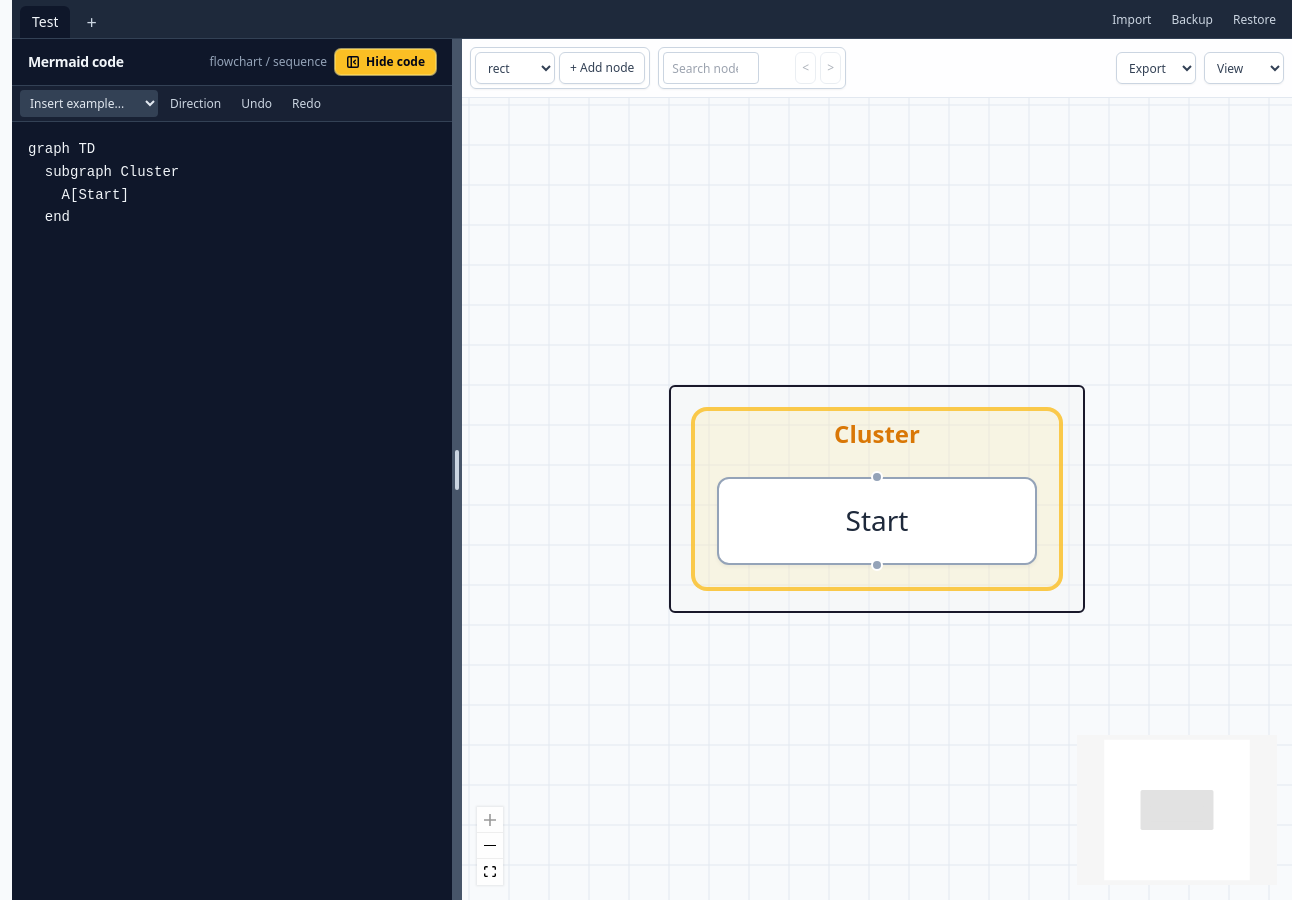
MermaidVisualEditor: node label editing › selects and highlights the subgraph declaration when a subgraph is clicked
Click the text "Cluster" at {"x": 877, "y": 434}, box left=834, top=417, right=920, bottom=451
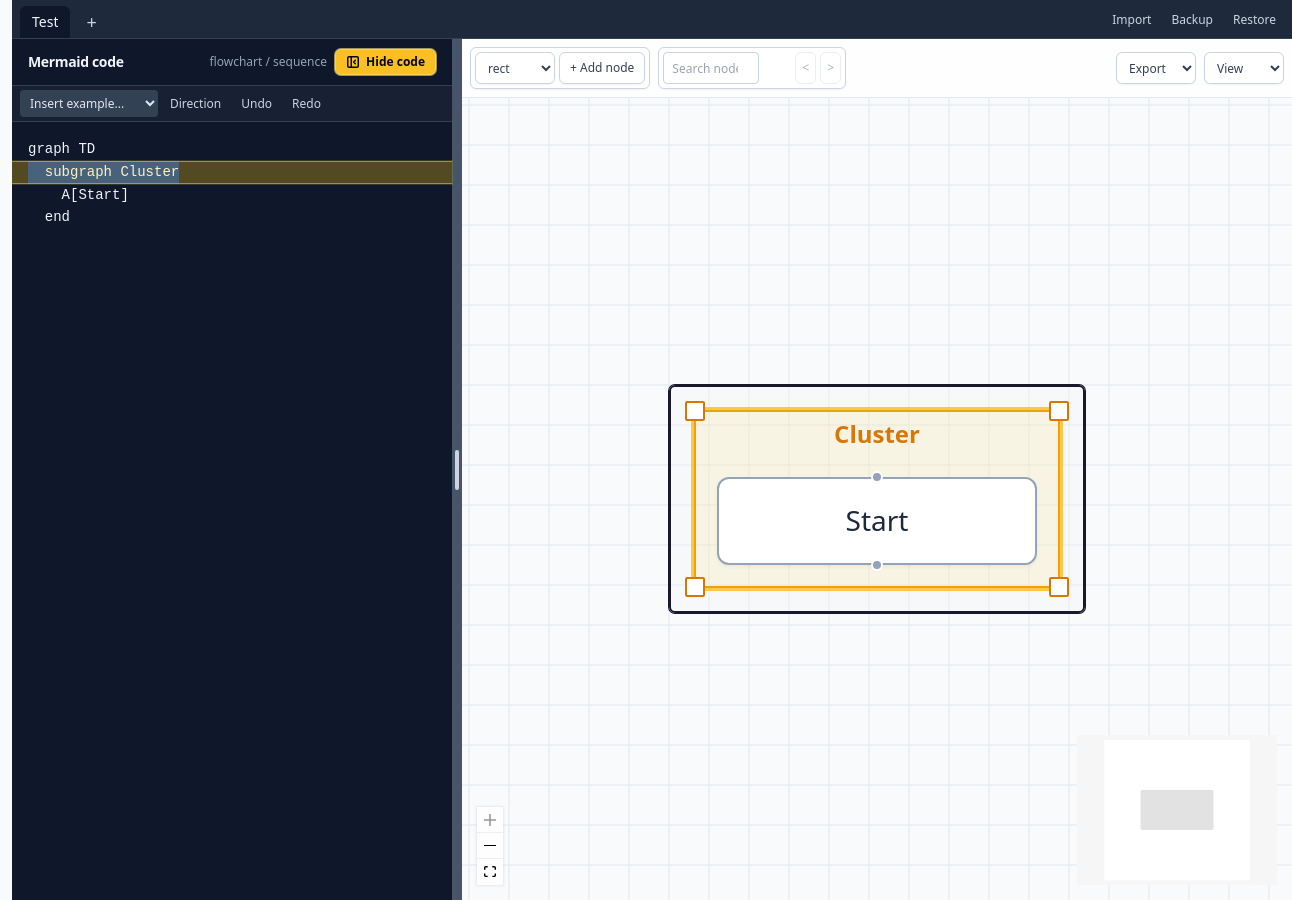
Result: the element with class "code-line-flash" is shown at left=12, top=161, right=452, bottom=184
